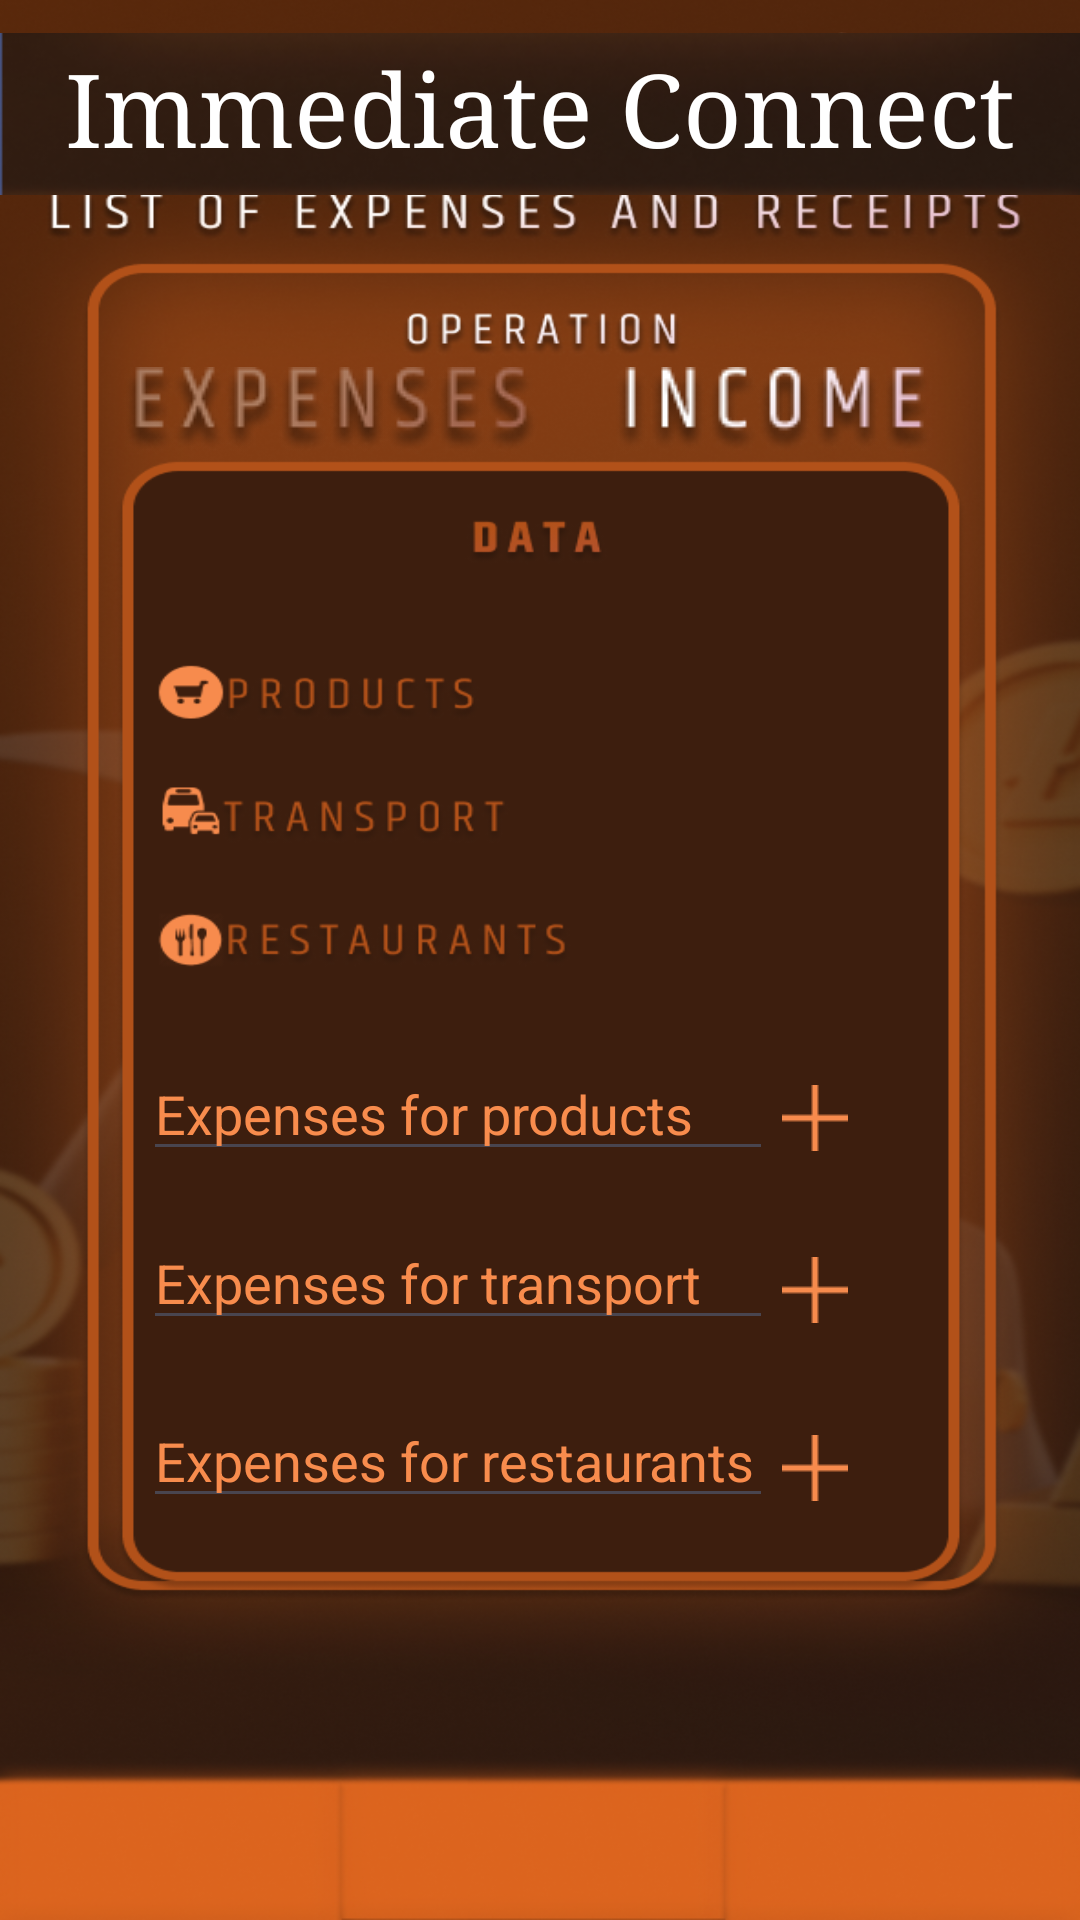

Screen size 1080 × 1920. Icon name, then its center in pixels as point (x, y):
plus: point (815, 1118), point (815, 1290), point (815, 1468)
